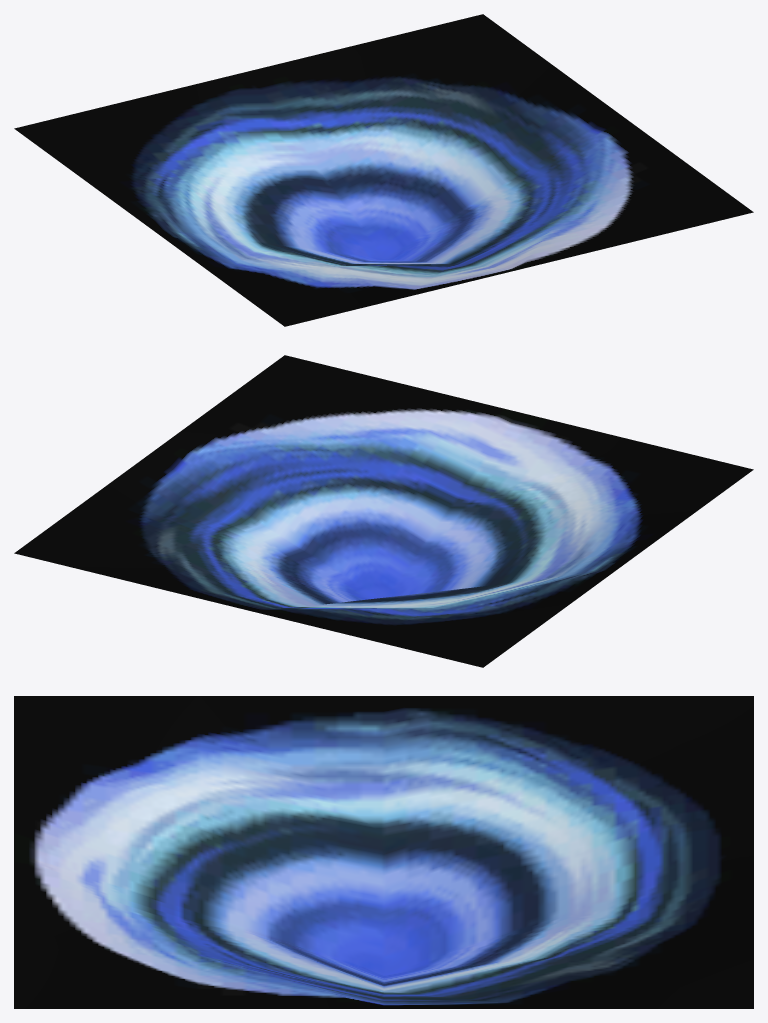
File: INST_SM_WHIRLPOOL_WHIRLPOOL__AI.fbx
3 renders of one model, top to bottom at view 1: azimuth 30°, elevation 25°; view 2: azimuth 150°, elevation 25°; view 3: azimuth 270°, elevation 25°, orthographic. The views are drawn at different scales.
Visible parts, largest first — view 1: INST_SM_WHIRLPOOL_WHIRLPOOL__AI; view 2: INST_SM_WHIRLPOOL_WHIRLPOOL__AI; view 3: INST_SM_WHIRLPOOL_WHIRLPOOL__AI.
Part boxes in pixels (<box>): INST_SM_WHIRLPOOL_WHIRLPOOL__AI: <box>14,14,753,326</box>; INST_SM_WHIRLPOOL_WHIRLPOOL__AI: <box>14,355,753,667</box>; INST_SM_WHIRLPOOL_WHIRLPOOL__AI: <box>14,696,753,1008</box>.
Size of the model in its own units: 20000 by 3610 by 20000.
1 material, 1 textured.
